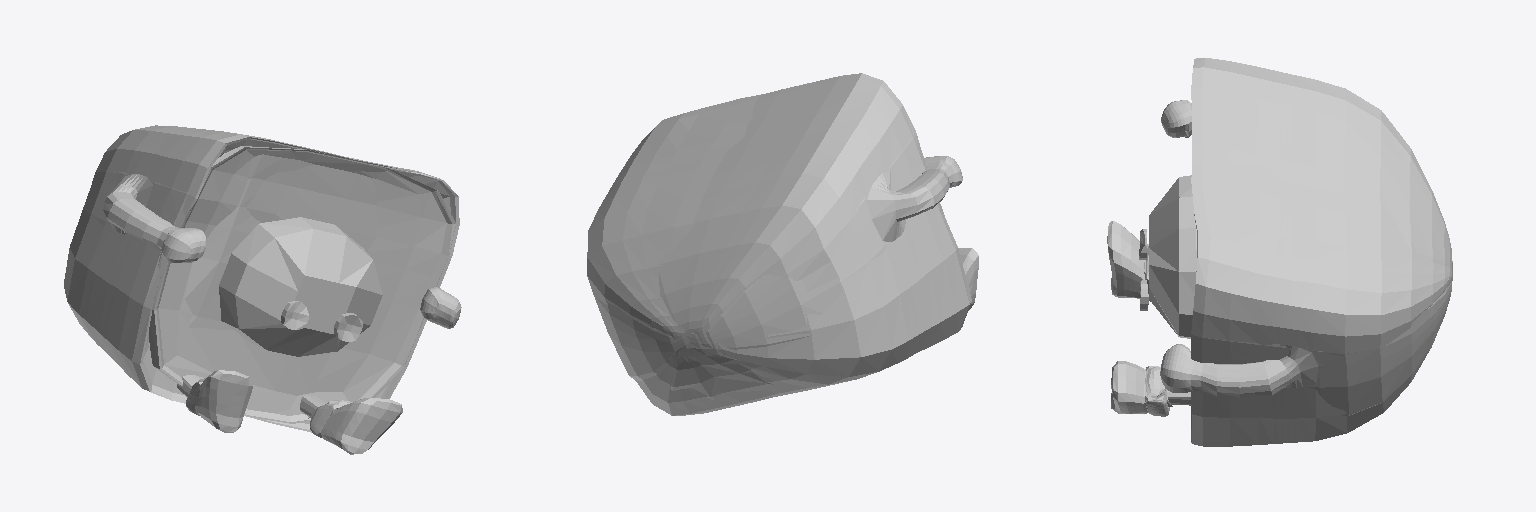
Rendered from Pal_000016.obj.
3 renders of one model, left to right at view 1: azimuth 30°, elevation 25°; view 2: azimuth 150°, elevation 25°; view 3: azimuth 270°, elevation 25°, orthographic.
Parts seen in each view (by area): view 1: Cuerpo_de_aguacate_3.001_Cube.002, Hueso_Cubo.003, Ojos_Cubo.002; view 2: Cuerpo_de_aguacate_3.001_Cube.002; view 3: Cuerpo_de_aguacate_3.001_Cube.002, Hueso_Cubo.003.
Boxes of the visible parts, box(x1,y1,x2,y2) form: Cuerpo_de_aguacate_3.001_Cube.002: box(64, 125, 461, 454); Hueso_Cubo.003: box(219, 217, 382, 356); Ojos_Cubo.002: box(281, 301, 362, 341); Cuerpo_de_aguacate_3.001_Cube.002: box(587, 73, 978, 415); Cuerpo_de_aguacate_3.001_Cube.002: box(1107, 58, 1452, 446); Hueso_Cubo.003: box(1149, 175, 1196, 338).
Size of the model in its own units: 1.1 by 1.05 by 1.01.